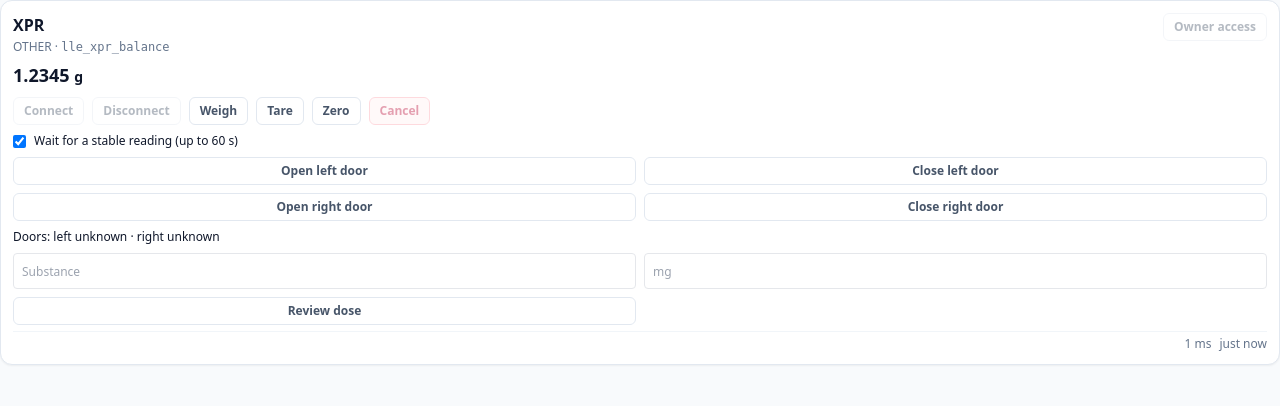
Test case: tells the operator what a long stable weigh is doing
Click the button "Weigh" at point(218, 111), box 189,97 -> 248,125
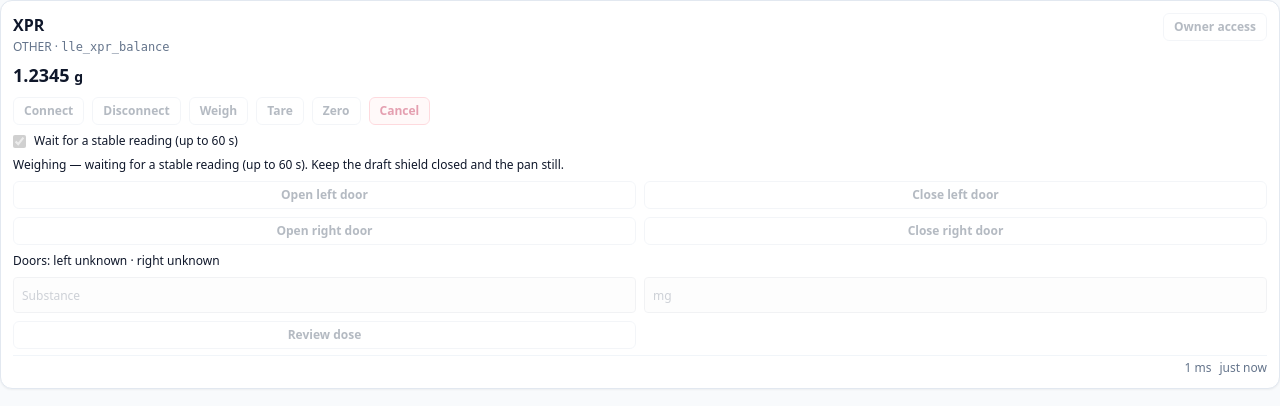
Expected: the text "waiting for a stable reading (up to 60 s)" is shown, 13,156 -> 564,173
